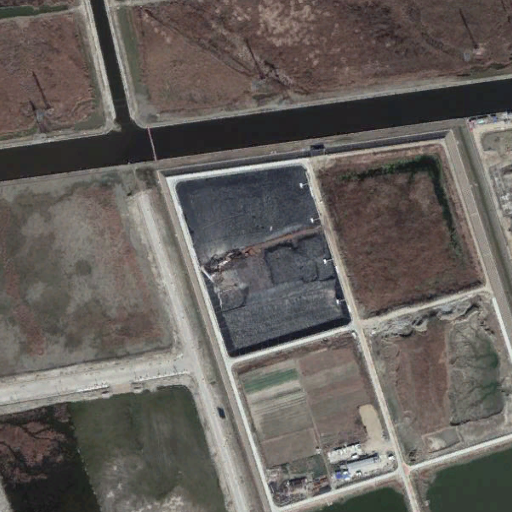lf: (171, 164, 354, 360)
